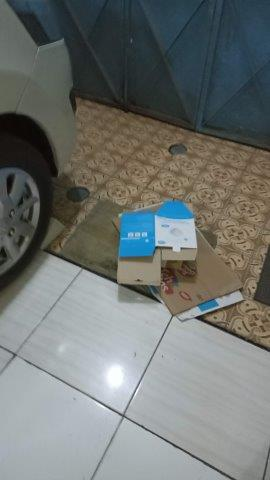kardus: (110, 201, 243, 313)
